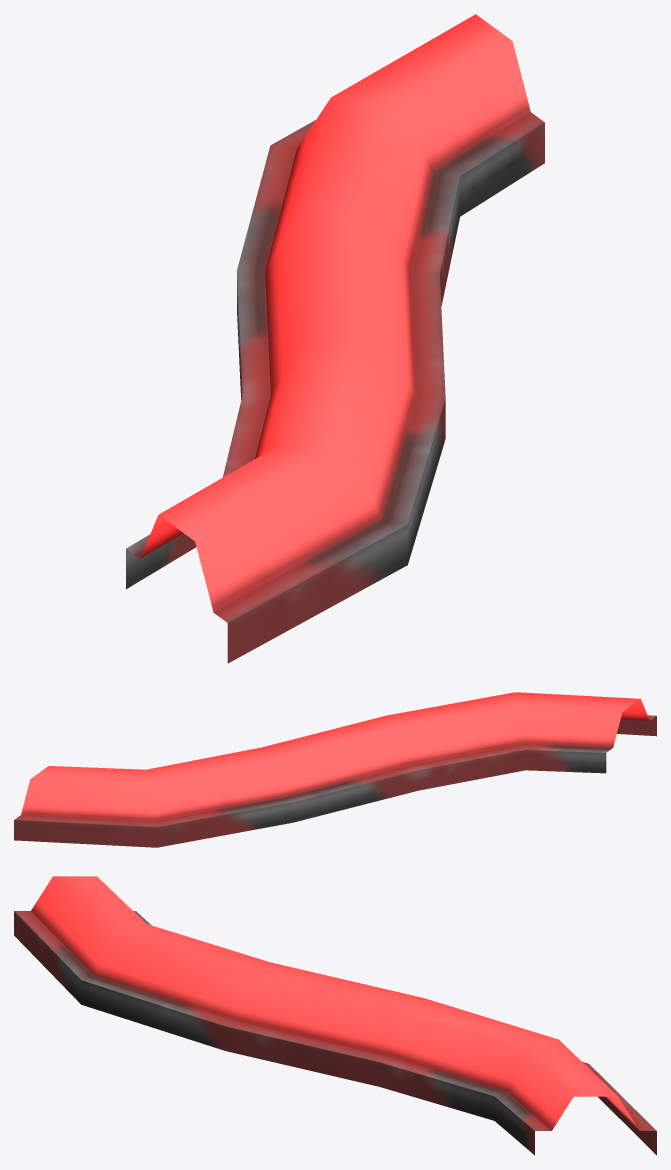
Rendered from Way_SL.fbx.
3 views of the same model, one above another, from view 1: azimuth 30°, elevation 25°; view 2: azimuth 150°, elevation 25°; view 3: azimuth 270°, elevation 25° (orthographic). The views are drawn at different scales.
Visible parts, largest first — view 1: Way_SL; view 2: Way_SL; view 3: Way_SL.
Part boxes in pixels (left/top/right/bottom): Way_SL: left=126, top=14, right=544, bottom=663; Way_SL: left=14, top=692, right=656, bottom=847; Way_SL: left=14, top=876, right=656, bottom=1155.
Size of the model in its own units: 1 by 0.1253 by 1.23.
